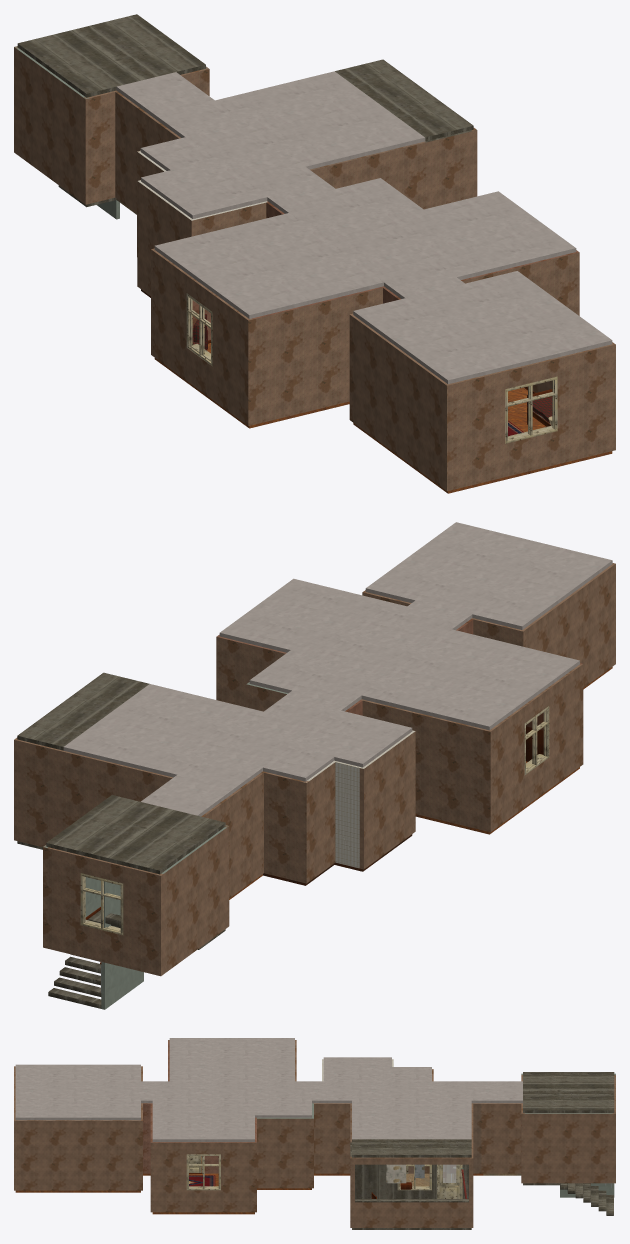
File: apartment.glb
The picture shows the model from 3 angles, top to bottom: view 1: azimuth 30°, elevation 25°; view 2: azimuth 150°, elevation 25°; view 3: azimuth 270°, elevation 25°; orthographic projection. The views are drawn at different scales.
Parts seen in each view (by area): view 1: Architecture, Bedroom_Furniture; view 2: Architecture; view 3: Architecture, Door_Loggia, Loggia_Furniture, Kids_Furniture.
Part boxes in pixels (<box>): Architecture: <box>14,14,615,493</box>; Bedroom_Furniture: <box>508,389,552,436</box>; Architecture: <box>14,522,615,1009</box>; Architecture: <box>14,1038,615,1229</box>; Door_Loggia: <box>439,1164,459,1198</box>; Loggia_Furniture: <box>371,1164,467,1198</box>; Kids_Furniture: <box>189,1175,215,1186</box>.
Size of what is drawn, in the model's own units: 9.85 by 4.11 by 21.12.
49 materials, 34 textured.
